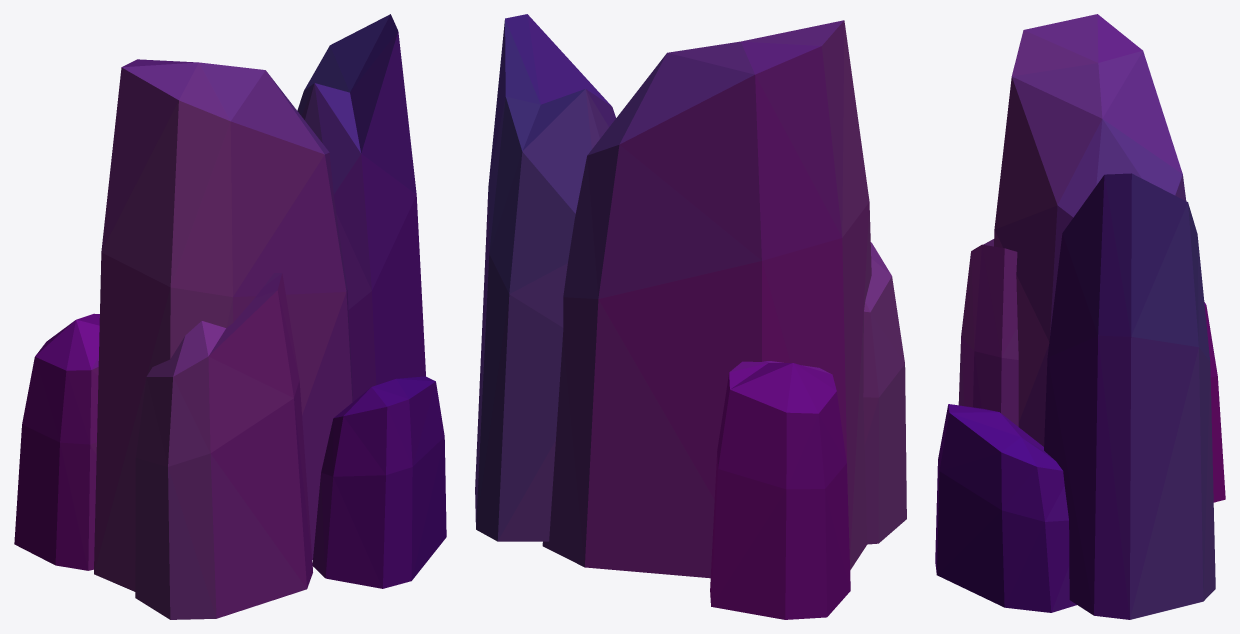
The model's file is SM_CinderCanyon_Rock_C_LOD2.fbx.
3 renders of one model, left to right at view 1: azimuth 30°, elevation 25°; view 2: azimuth 150°, elevation 25°; view 3: azimuth 270°, elevation 25°, orthographic. The views are drawn at different scales.
Visible parts, largest first — view 1: SM_CinderCanyon_Rock_C_LOD2; view 2: SM_CinderCanyon_Rock_C_LOD2; view 3: SM_CinderCanyon_Rock_C_LOD2.
Boxes of the visible parts, x1,y1,x2,y2 form: SM_CinderCanyon_Rock_C_LOD2: [14, 14, 446, 619]; SM_CinderCanyon_Rock_C_LOD2: [475, 14, 906, 619]; SM_CinderCanyon_Rock_C_LOD2: [935, 14, 1225, 619].
Size of the model in its own units: 100 by 72 by 128.
